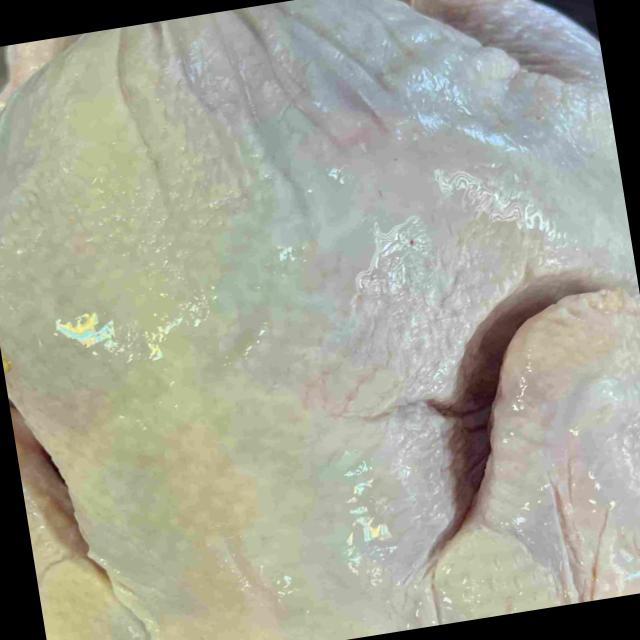back: (0, 0, 514, 579)
leg: (400, 0, 639, 287), (0, 33, 87, 125)
wing: (427, 291, 640, 625), (10, 406, 152, 640)
